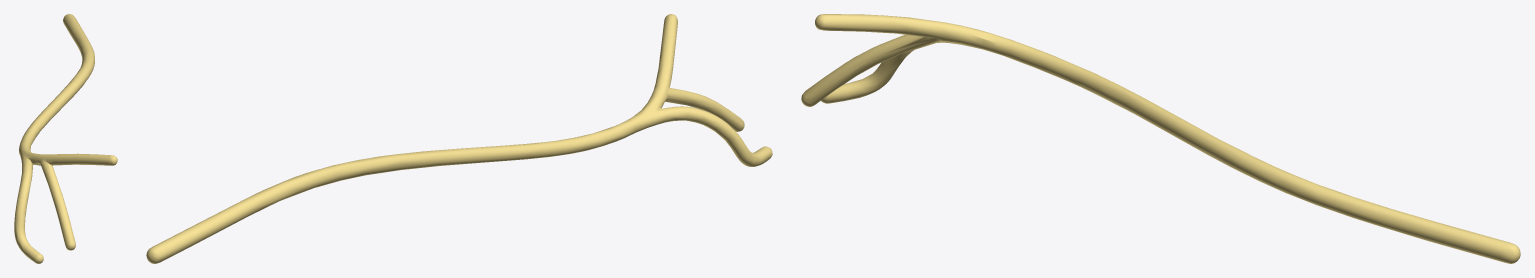
The model's file is fma52629_fj1351.glb.
The picture shows the model from 3 angles, left to right: view 1: azimuth 30°, elevation 25°; view 2: azimuth 150°, elevation 25°; view 3: azimuth 270°, elevation 25°; orthographic projection. The views are drawn at different scales.
Visible parts, largest first — view 1: FMA52629_FJ1351; view 2: FMA52629_FJ1351; view 3: FMA52629_FJ1351.
Part boxes in pixels (x1,y1,x2,y2): FMA52629_FJ1351: (14,14,117,263); FMA52629_FJ1351: (146,14,772,263); FMA52629_FJ1351: (801,14,1520,263).
Bounding box in the file's own units: 0.0233 × 0.00784 × 0.0355.
